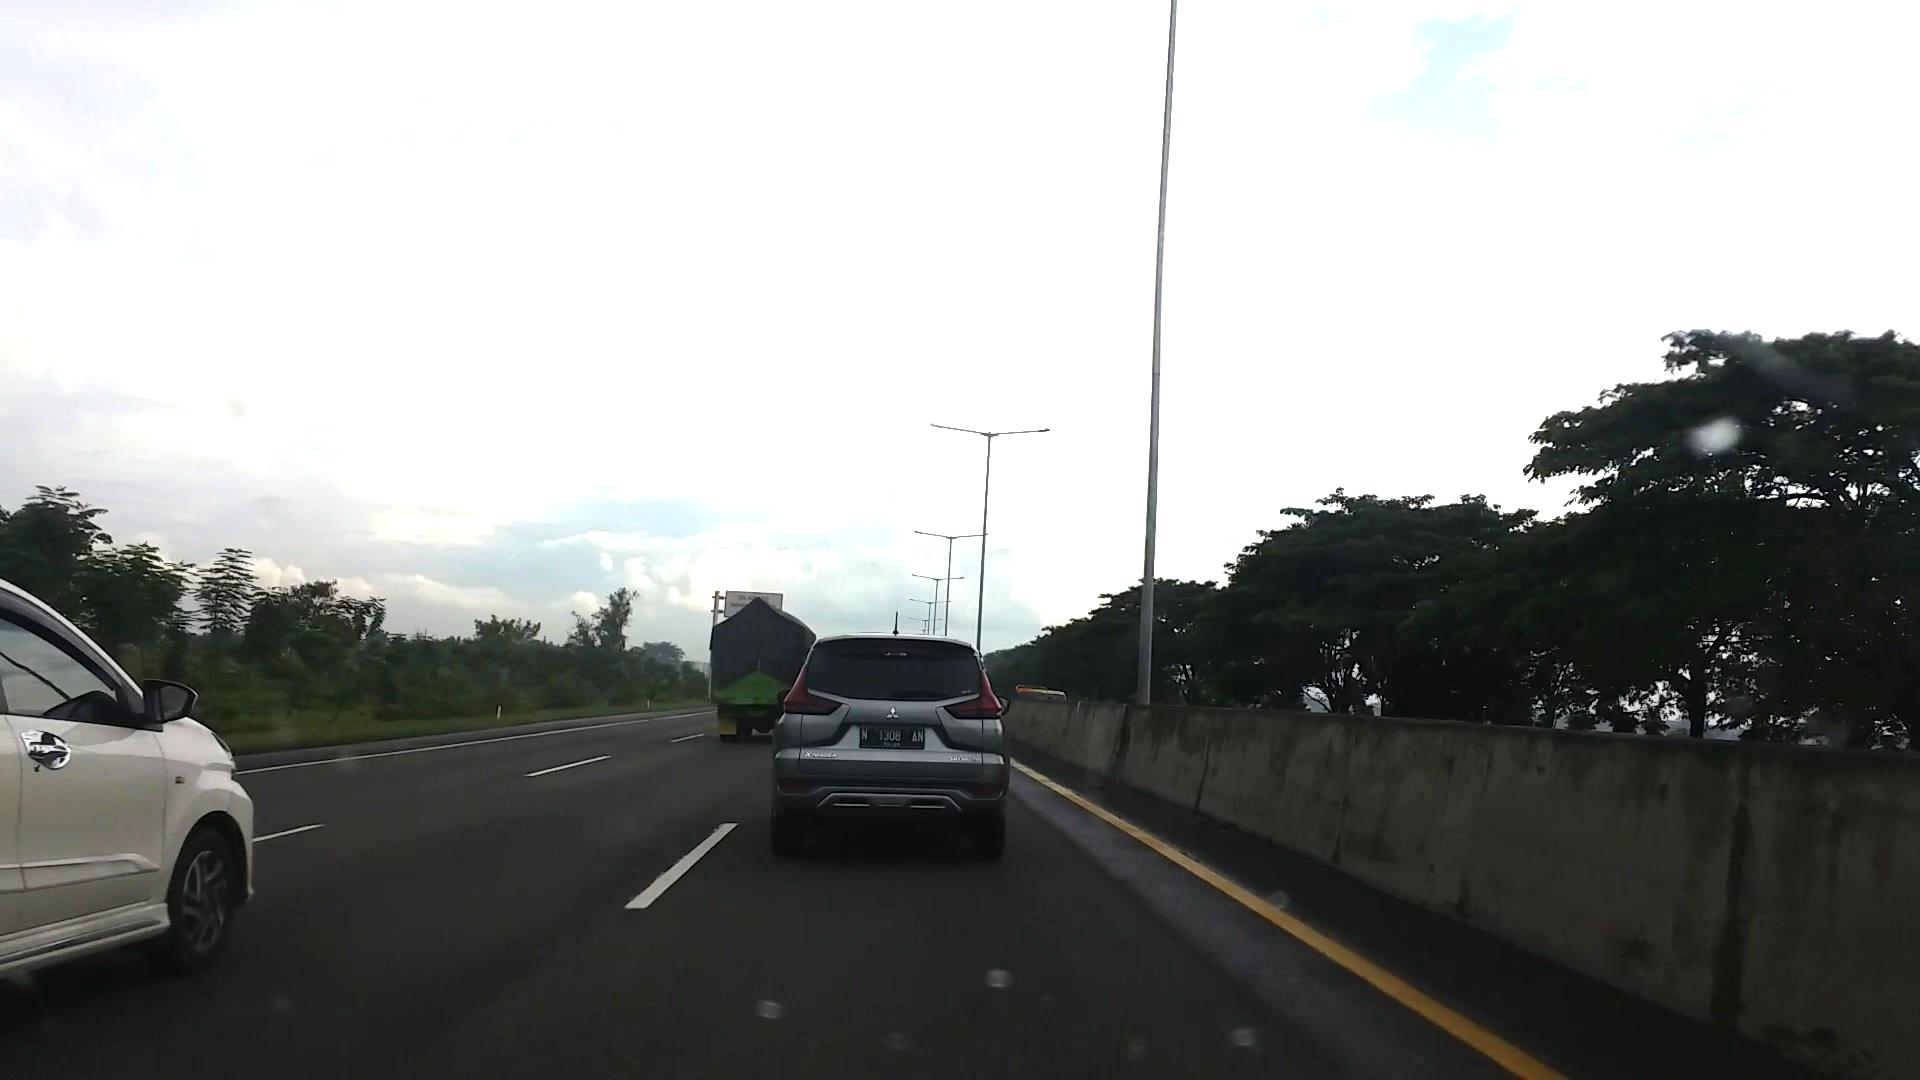plate_positive: (860, 727, 924, 749)
